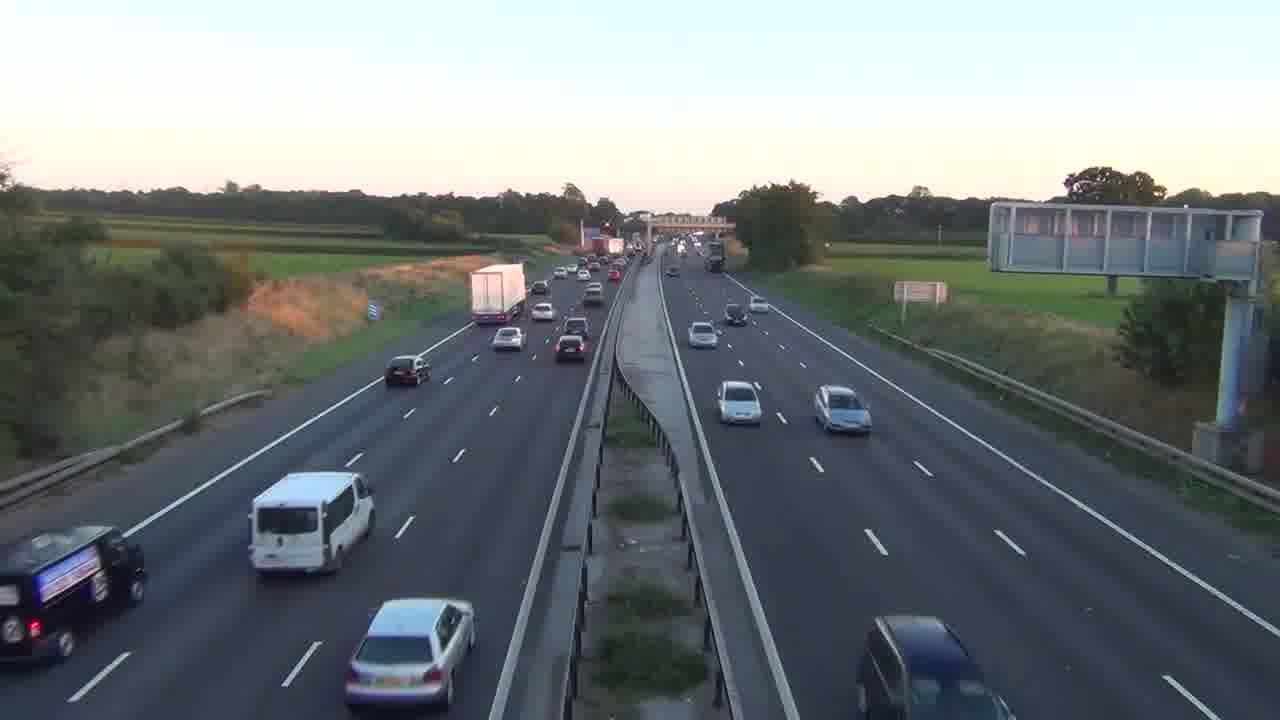car: (854, 613, 1018, 719), (343, 596, 477, 712), (813, 383, 872, 435), (715, 379, 764, 426), (384, 353, 432, 387), (554, 333, 587, 363), (688, 321, 720, 350), (492, 326, 524, 351)
truck: (0, 523, 148, 661), (247, 470, 376, 578), (468, 261, 528, 325)
